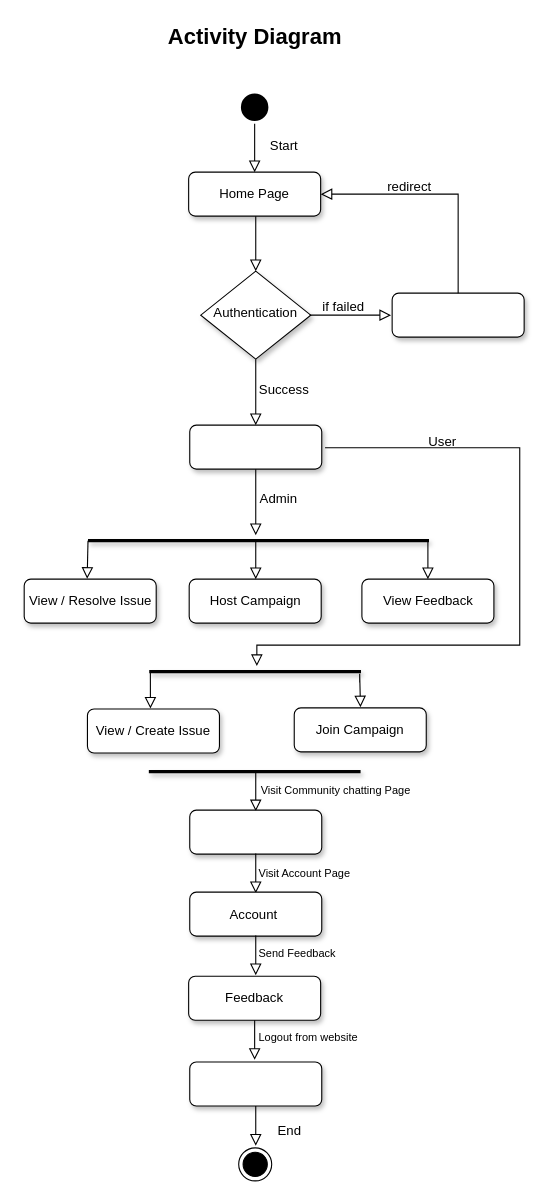
Image size: 550x1200. Some labels were removed from this diagram. The centre of each missing label's shape, as x and y in pixels:
"Chattng" goes at [256,833].
"Landing Page" goes at [256,448].
"Logout" goes at [256,1085].
"Message" goes at [459,316].
